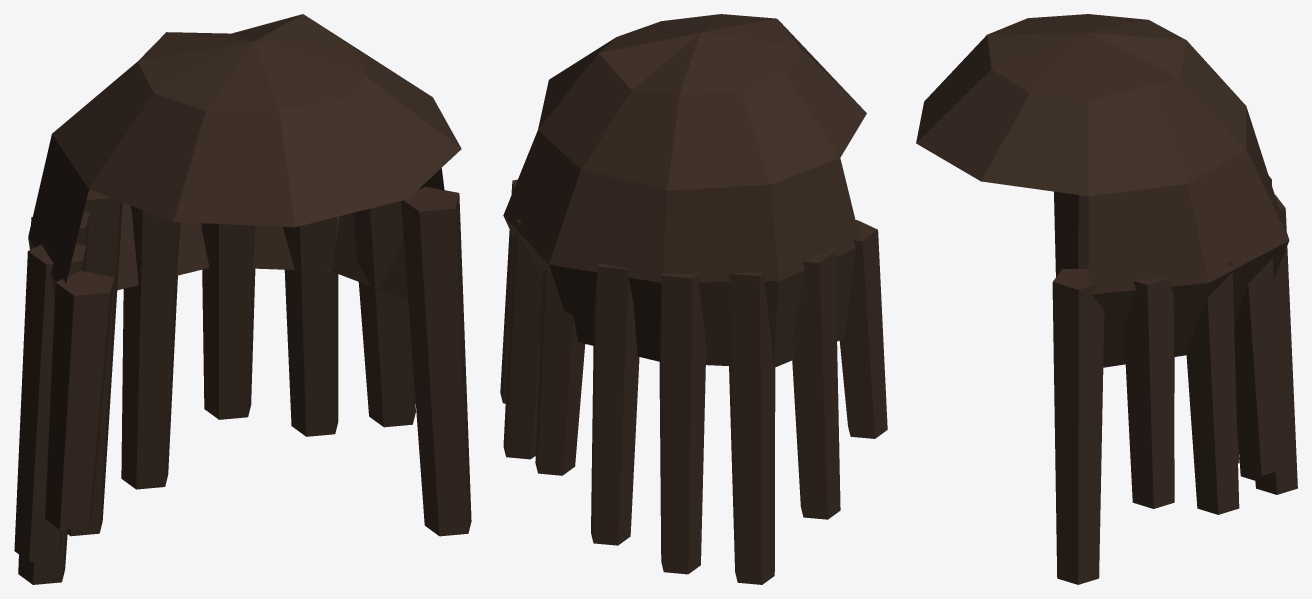
Rendered from locks.glb.
3 renders of one model, left to right at view 1: azimuth 30°, elevation 25°; view 2: azimuth 150°, elevation 25°; view 3: azimuth 270°, elevation 25°, orthographic. The views are drawn at different scales.
Visible parts, largest first — view 1: locks; view 2: locks; view 3: locks.
Boxes of the visible parts, bbox=[...] form: locks: bbox=[14, 14, 471, 584]; locks: bbox=[500, 14, 887, 584]; locks: bbox=[916, 14, 1297, 584].
Size of the model in its own units: 2.31 by 2.91 by 2.08.
1 material, 1 textured.
